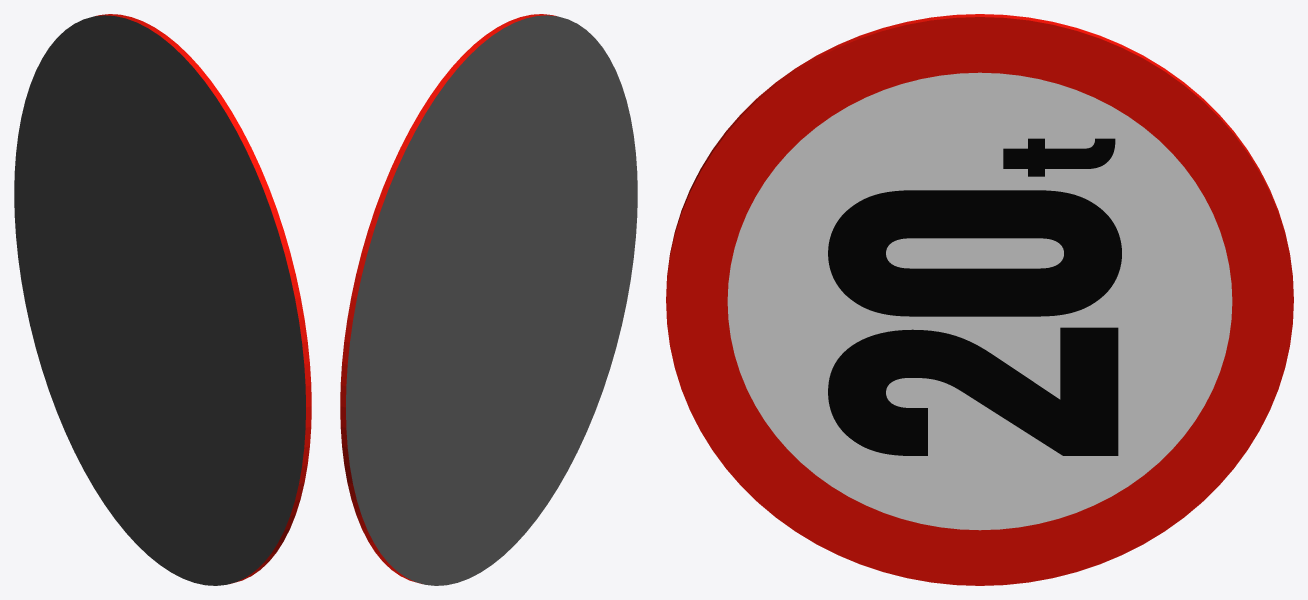
3 renders of one model, left to right at view 1: azimuth 30°, elevation 25°; view 2: azimuth 150°, elevation 25°; view 3: azimuth 270°, elevation 25°, orthographic. The views are drawn at different scales.
Parts seen in each view (by area): view 1: 圆环; view 2: 圆环; view 3: 圆环, 文本.001, 文本, 文本.003.
Part boxes in pixels (bbox=[...]): 圆环: bbox=[14, 14, 311, 585]; 圆环: bbox=[340, 14, 637, 585]; 圆环: bbox=[666, 14, 1293, 585]; 文本.001: bbox=[828, 190, 1121, 316]; 文本: bbox=[828, 327, 1118, 455]; 文本.003: bbox=[1003, 138, 1115, 176].
Size of the model in its own units: 0.0113 by 0.8 by 0.8.
